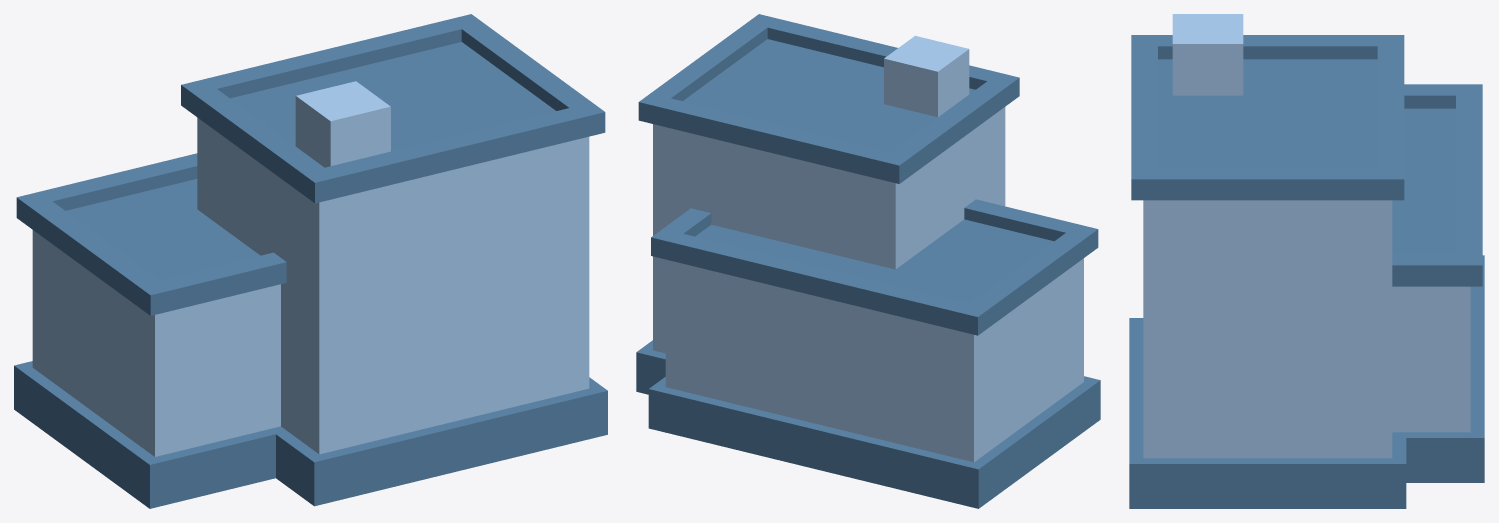
File: Map-House-S-Lv2-B.fbx
3 renders of one model, left to right at view 1: azimuth 30°, elevation 25°; view 2: azimuth 150°, elevation 25°; view 3: azimuth 270°, elevation 25°, orthographic. The views are drawn at different scales.
Parts seen in each view (by area): view 1: Map-House-S-Lv2-B; view 2: Map-House-S-Lv2-B; view 3: Map-House-S-Lv2-B.
Boxes of the visible parts, x1=… form: Map-House-S-Lv2-B: x1=14, y1=14, x2=607, y2=508; Map-House-S-Lv2-B: x1=636, y1=14, x2=1100, y2=508; Map-House-S-Lv2-B: x1=1129, y1=14, x2=1484, y2=508.
Size of the model in its own units: 1.6 by 1.32 by 1.15.
